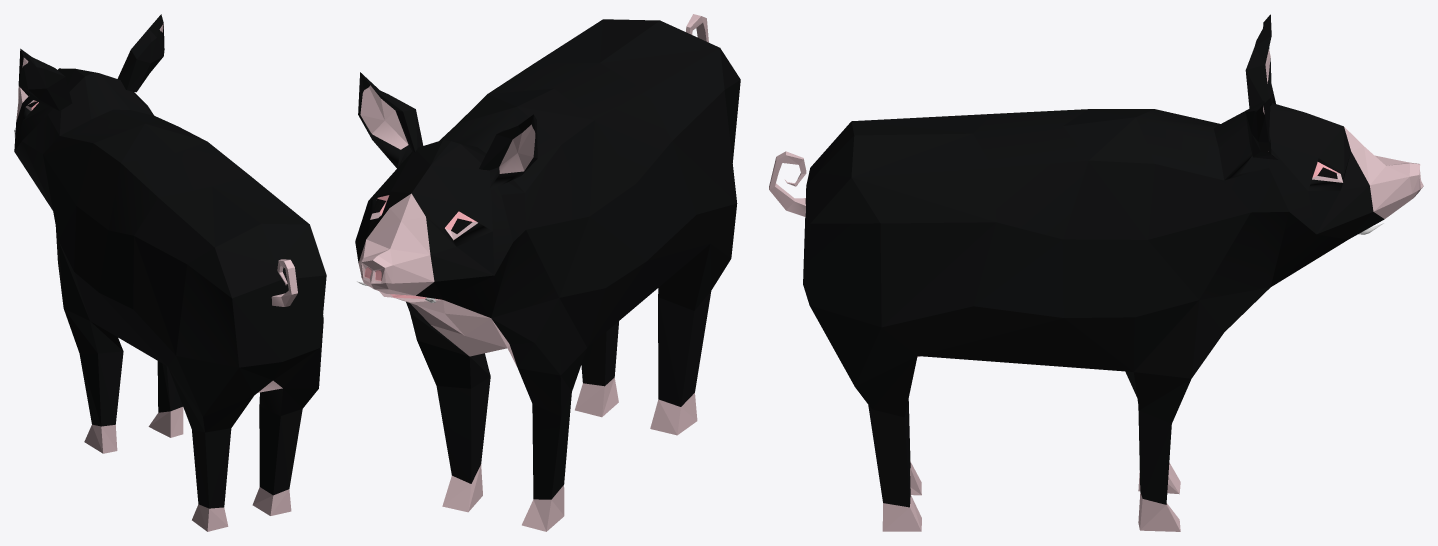
File: Schwein_Napoleon2.FBX
3 renders of one model, left to right at view 1: azimuth 30°, elevation 25°; view 2: azimuth 150°, elevation 25°; view 3: azimuth 270°, elevation 25°, orthographic. The views are drawn at different scales.
Parts seen in each view (by area): view 1: Schwein_Koerper; view 2: Schwein_Koerper; view 3: Schwein_Koerper.
Part boxes in pixels (left/top/right/bottom): Schwein_Koerper: left=14, top=14, right=326, bottom=531; Schwein_Koerper: left=355, top=14, right=740, bottom=531; Schwein_Koerper: left=769, top=14, right=1423, bottom=531.
Size of the model in its own units: 7.37 by 16.69 by 21.9.
